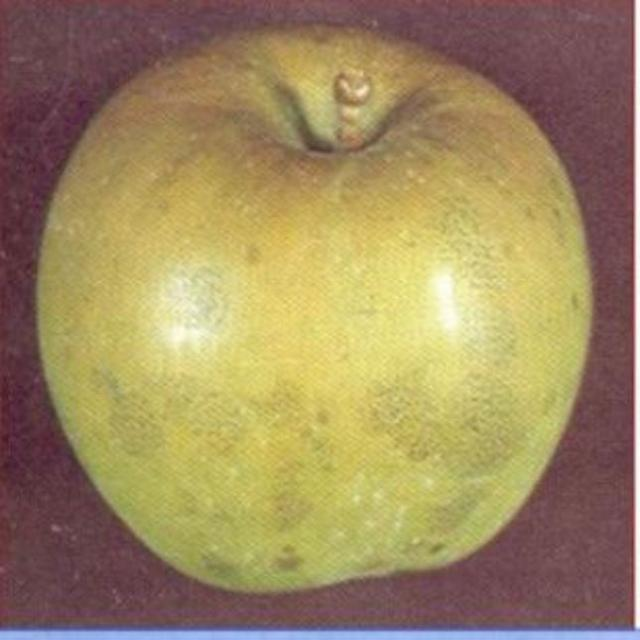Rotten Apple: (35, 29, 612, 617)
